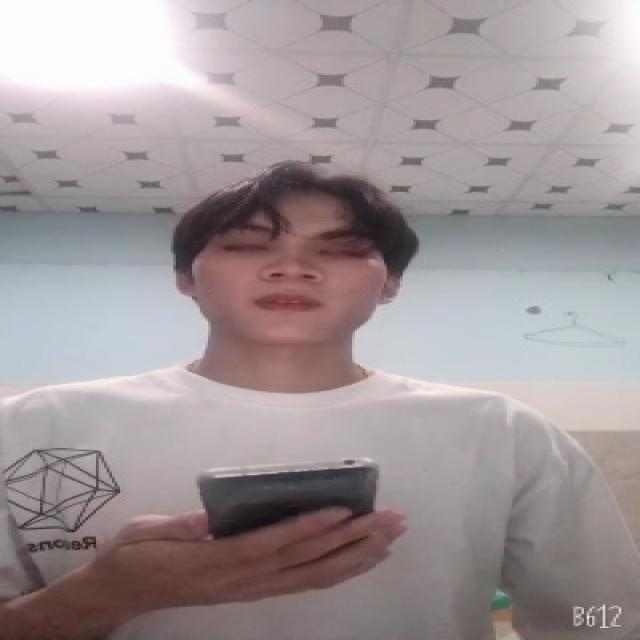Phone: (196, 454, 384, 542)
